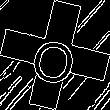O_N: (28, 25, 82, 85)
